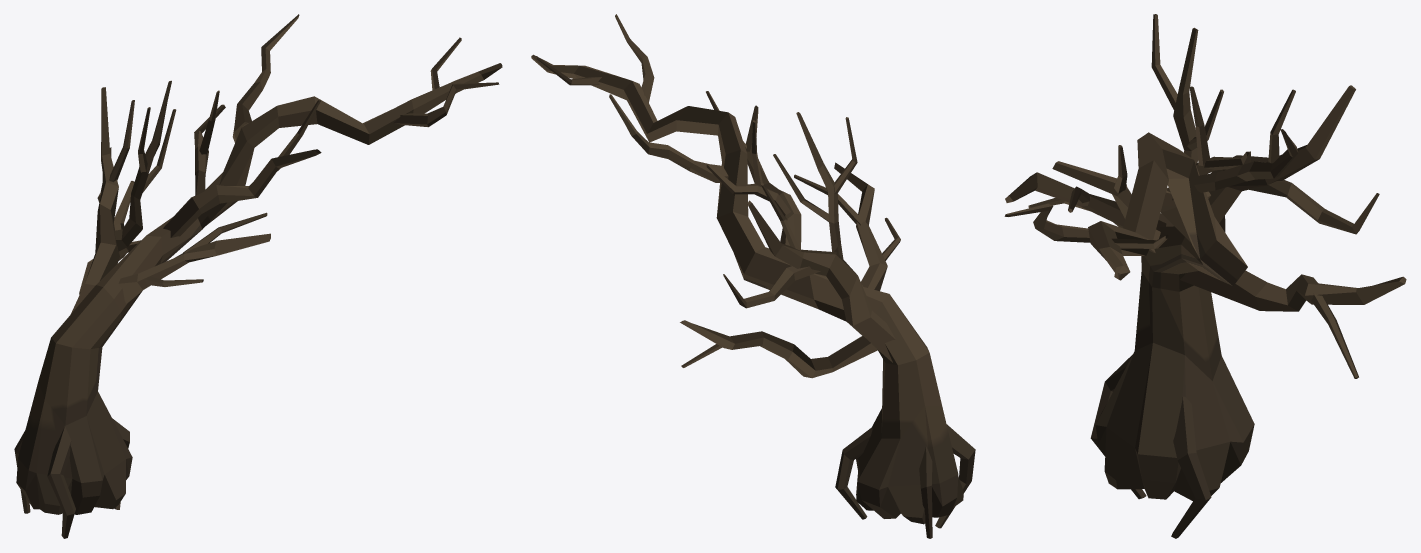
Rendered from crypt_tree_c.gltf.
The picture shows the model from 3 angles, left to right: view 1: azimuth 30°, elevation 25°; view 2: azimuth 150°, elevation 25°; view 3: azimuth 270°, elevation 25°; orthographic projection. The views are drawn at different scales.
Visible parts, largest first — view 1: crypt_tree_c; view 2: crypt_tree_c; view 3: crypt_tree_c.
Part boxes in pixels (x1,y1,x2,y2): crypt_tree_c: (14, 14, 502, 538); crypt_tree_c: (531, 14, 975, 538); crypt_tree_c: (1004, 14, 1406, 538).
Bounding box in the file's own units: 8.63 × 7.49 × 4.89.
Materials: 1 (1 with a texture image).
